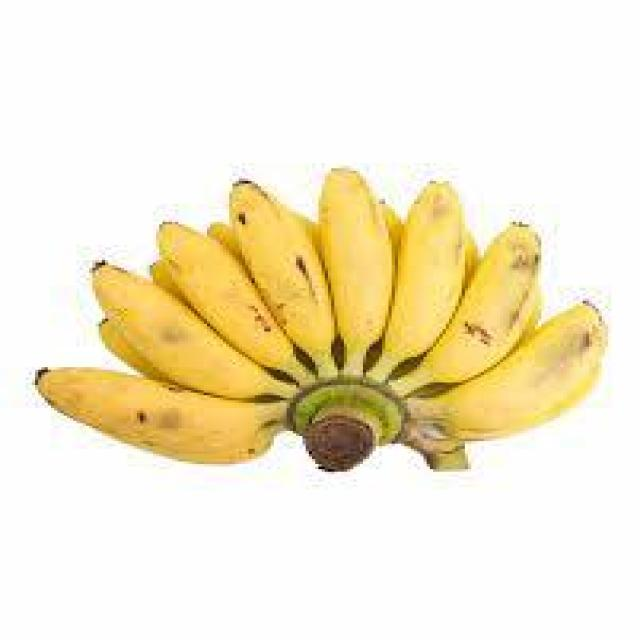Banana: (92, 262, 293, 400), (408, 301, 605, 441), (392, 222, 538, 395), (156, 222, 312, 382), (35, 367, 280, 459), (229, 181, 338, 375), (366, 181, 465, 377), (315, 168, 393, 372)
